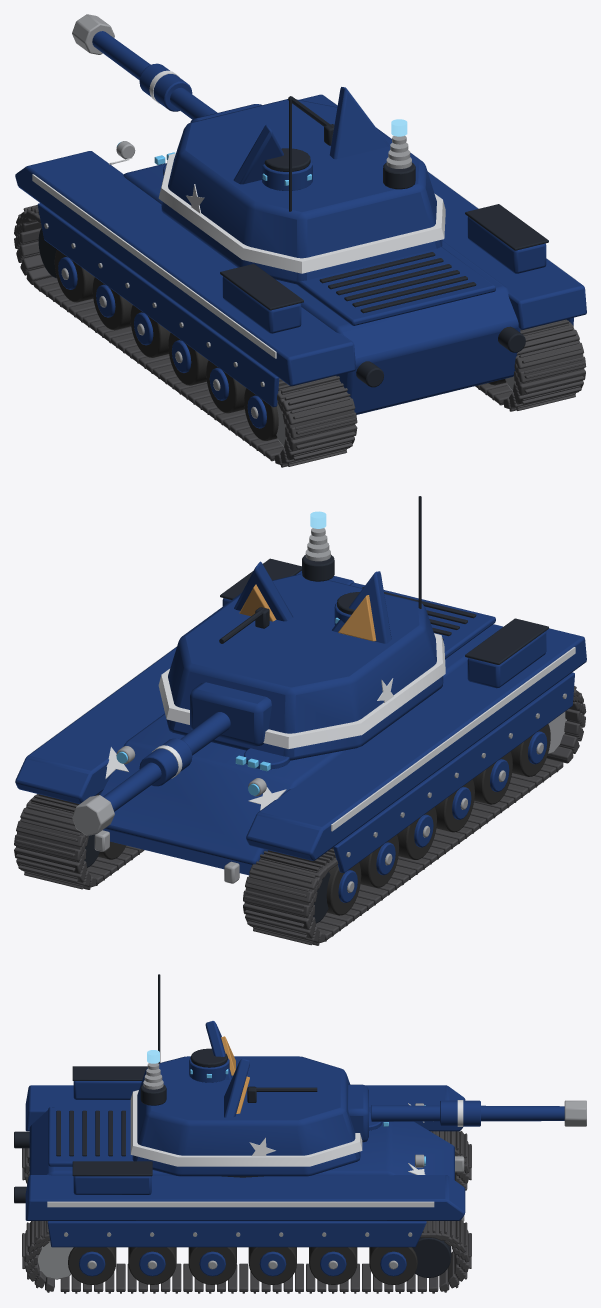
The model's file is shibas_tesla.glb.
3 renders of one model, top to bottom at view 1: azimuth 30°, elevation 25°; view 2: azimuth 150°, elevation 25°; view 3: azimuth 270°, elevation 25°, orthographic. The views are drawn at different scales.
Visible parts, largest first — view 1: turret_body, fender_-1, hull_core, Tracks3, skirt_-1, fender_1, engine_deck, Tracks0, turret_band, Tracks2, ear_1, fender_trim_-1 (+24 smaller); view 2: turret_body, fender_-1, hull_core, Tracks0, fender_1, skirt_-1, Tracks1, turret_band, mantlet, barrel, fender_trim_-1, stowage_-1 (+17 smaller); view 3: turret_body, fender_1, skirt_1, Tracks0, hull_core, fender_-1, engine_deck, turret_band, fender_trim_1, barrel, Tracks3, Tracks1 (+27 smaller).
Part boxes in pixels (<box>): turret_body: <box>161,99,442,284</box>; fender_-1: <box>15,151,355,386</box>; hull_core: <box>123,163,520,414</box>; Tracks3: <box>19,211,586,467</box>; skirt_-1: <box>37,203,279,407</box>; fender_1: <box>299,94,586,329</box>; engine_deck: <box>296,246,495,325</box>; Tracks0: <box>14,205,565,461</box>; turret_band: <box>158,153,445,273</box>; Tracks2: <box>17,210,584,466</box>; ear_1: <box>329,87,389,159</box>; fender_trim_-1: <box>32,174,276,358</box>; turret_body: <box>162,574,443,760</box>; fender_-1: <box>246,628,586,860</box>; hull_core: <box>98,624,503,875</box>; Tracks0: <box>14,696,580,945</box>; fender_1: <box>15,570,353,803</box>; skirt_-1: <box>333,672,574,872</box>; Tracks1: <box>16,695,582,944</box>; turret_band: <box>158,633,445,748</box>; mantlet: <box>190,682,271,746</box>; barrel: <box>103,712,230,811</box>; fender_trim_-1: <box>331,647,575,831</box>; stowage_-1: <box>467,631,546,688</box>; turret_body: <box>132,1056,360,1176</box>; fender_1: <box>25,1175,465,1220</box>; skirt_1: <box>47,1221,426,1247</box>; Tracks0: <box>33,1131,471,1293</box>; hull_core: <box>29,1107,454,1180</box>; fender_-1: <box>25,1085,465,1131</box>; engine_deck: <box>48,1107,133,1166</box>; turret_band: <box>130,1090,362,1166</box>; fender_trim_1: <box>47,1201,434,1207</box>; barrel: <box>371,1105,564,1121</box>; Tracks3: <box>22,1131,460,1293</box>; Tracks1: <box>30,1131,468,1293</box>.
Bounding box in the file's own units: 1.5 × 1.41 × 3.08.
